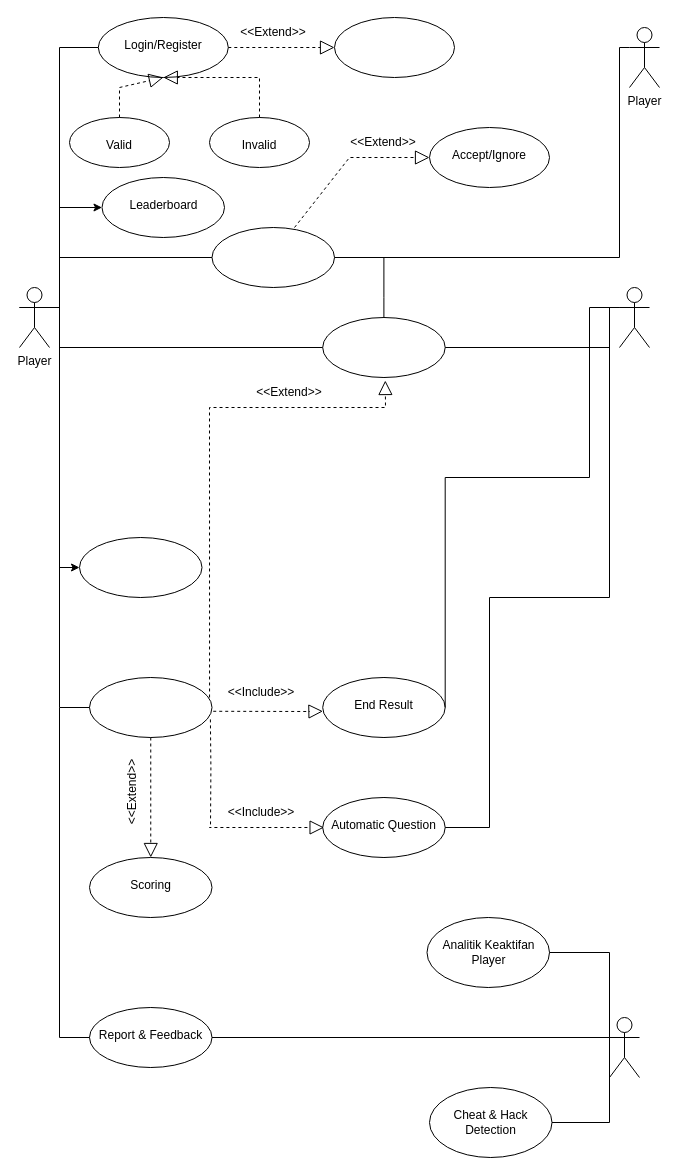
Some shapes in this 678 by 1175 pixel diagram are drawn without their labels. Here are the shapes that lost their labels. From the top down, the centre of each, then its label:
point 394,47: Buat Akun
point 272,257: Add Friend
point 634,317: System
point 383,347: Skills
point 140,567: Create Quiz
point 150,707: Realtime Question
point 624,1047: Admin
